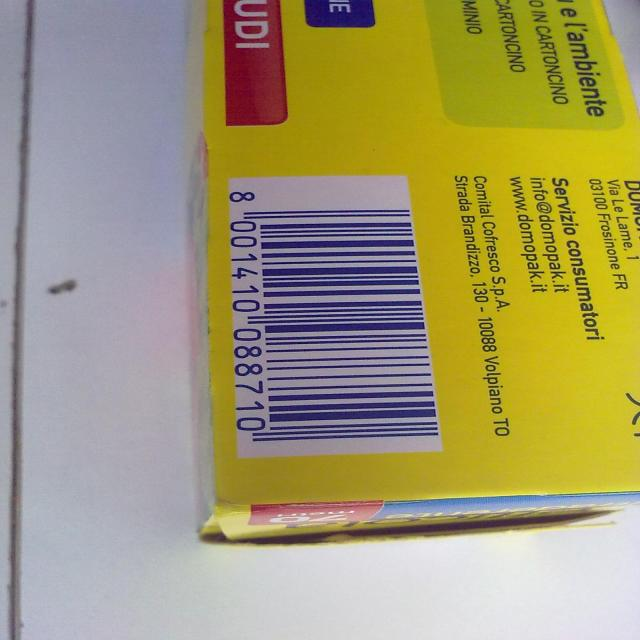barcode: (228, 176, 442, 458)
